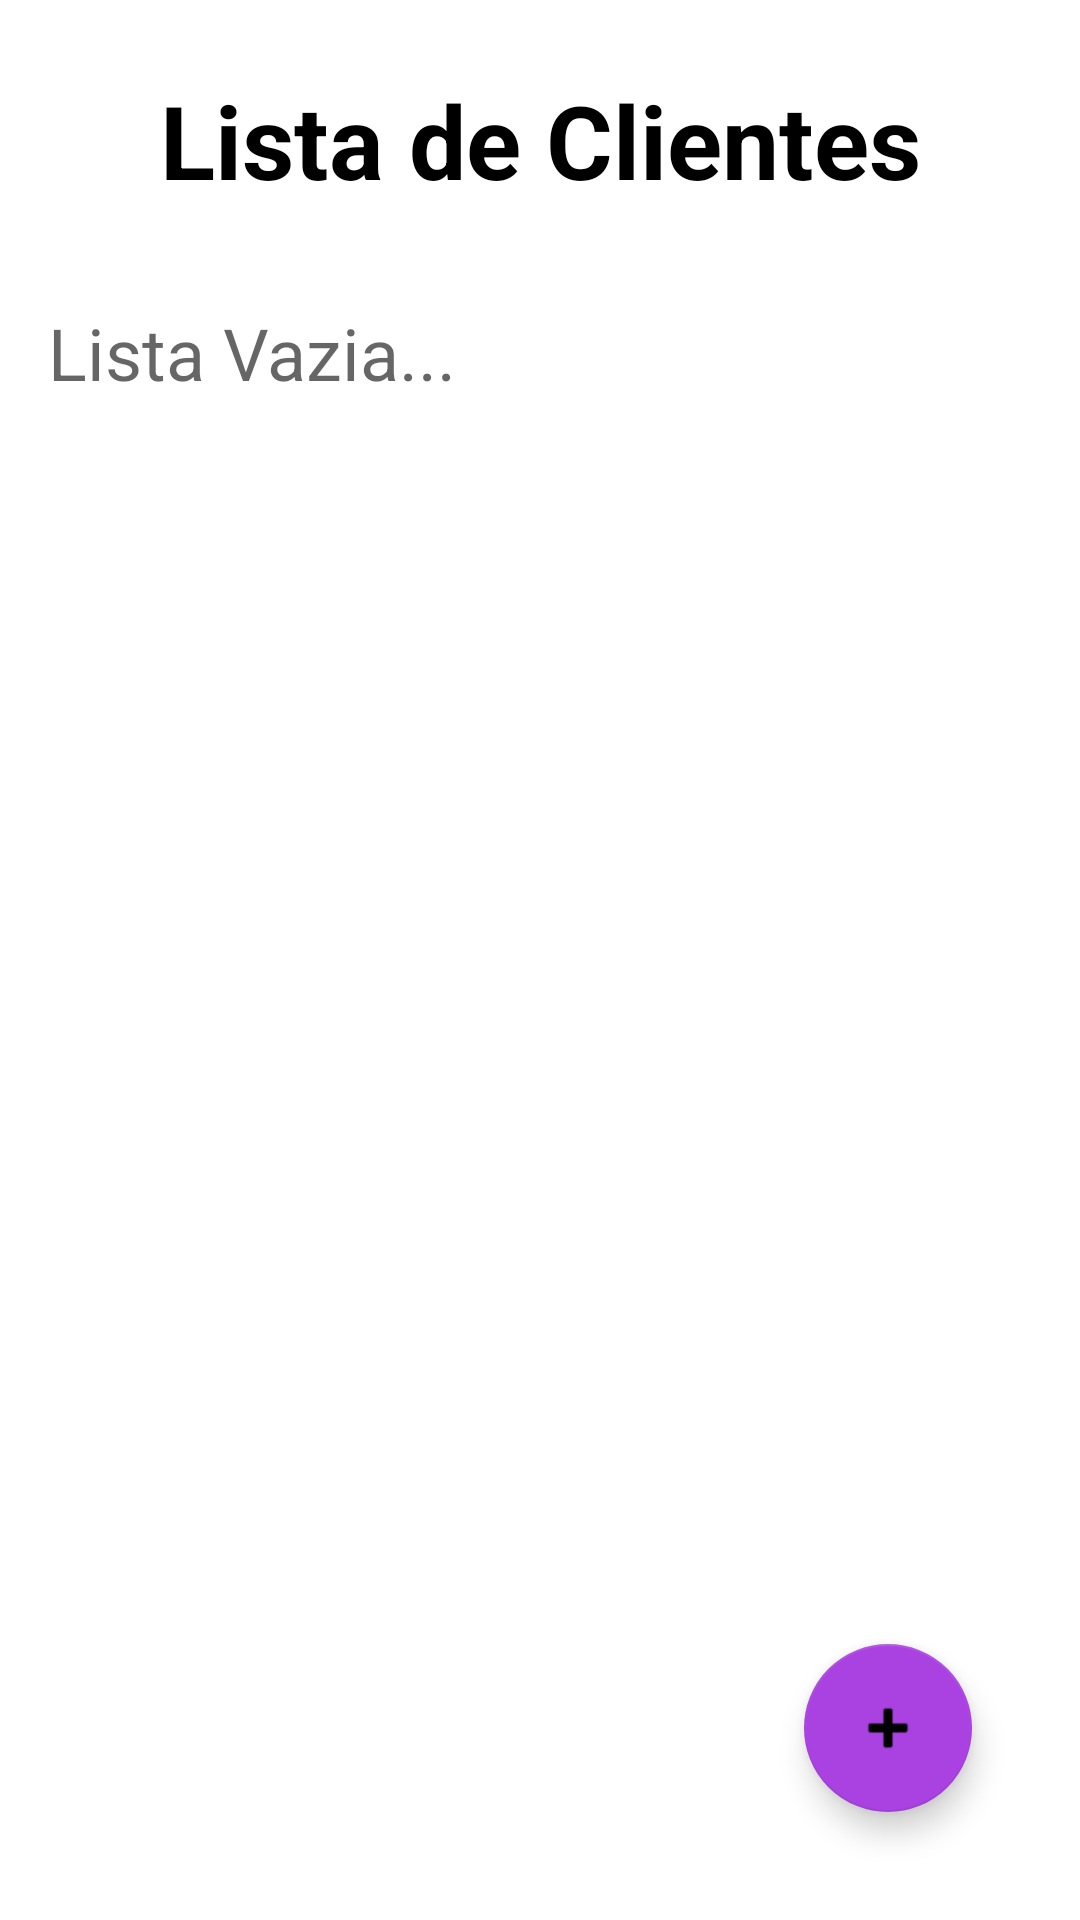

Named icons in this screenshot (1080px×1920px) and their bounding boxes, [x1=x1, y1=y1, x2=x2, y2=y2]:
add: [x1=804, y1=1644, x2=972, y2=1812]
